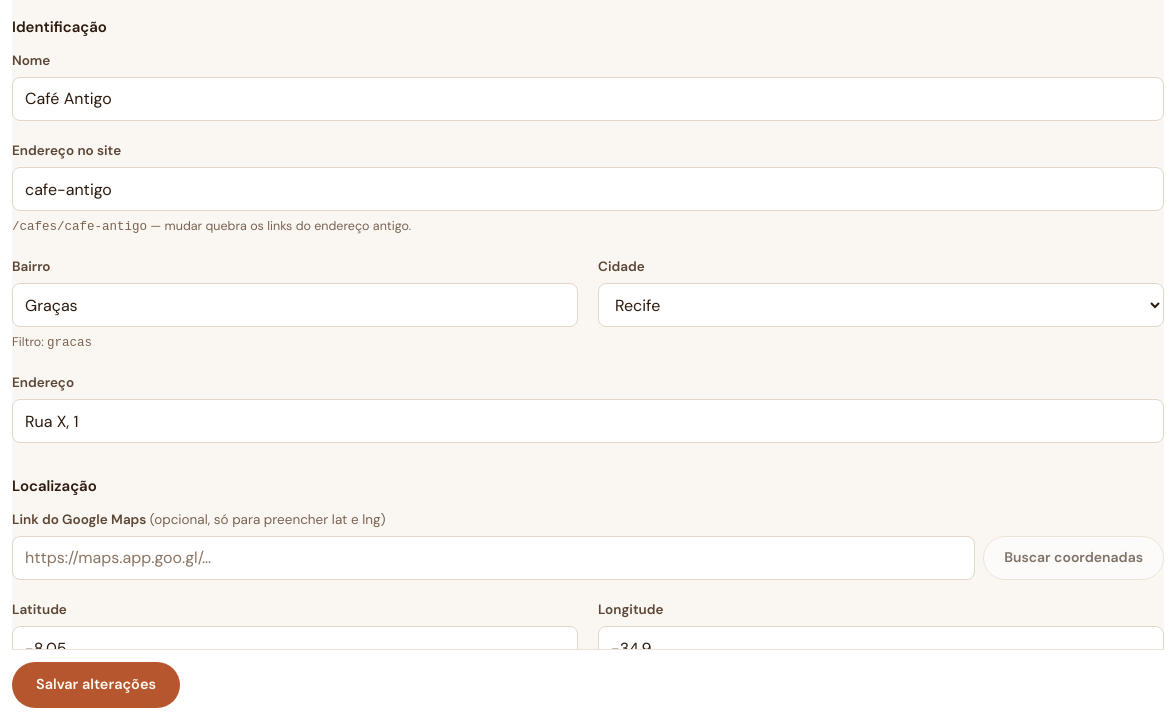
it: DadosCafeForm — endereço na edição (#155) › mudar o nome sugere o endereço novo sem trocar sozinho; “Usar” troca
Expected: the field labelled "Endereço no site" holds "cafe-antigo", 12,167 -> 1164,211
Expected: the button "Usar" is not shown
Replace the text in the field labelled "Nome" with "Café Novo" at (588,99), box 12,77 -> 1164,121
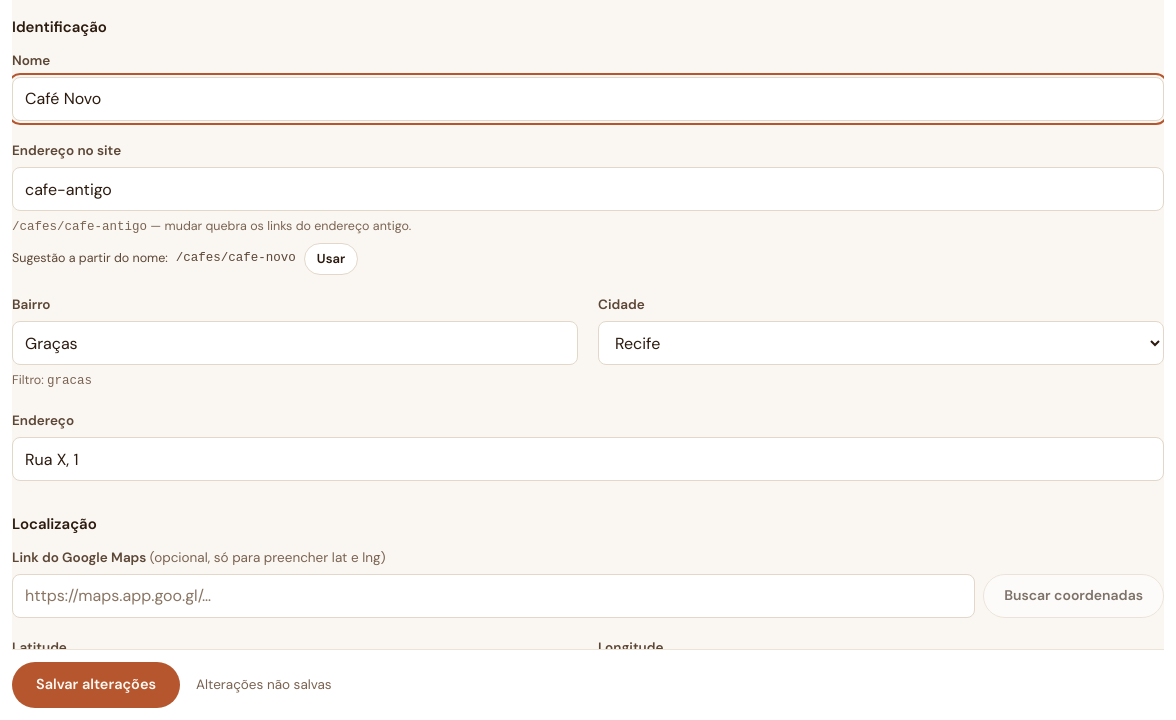
Expected: the field labelled "Endereço no site" holds "cafe-antigo", 12,167 -> 1164,211
Expected: the text "/cafes/cafe-novo" is shown, 176,249 -> 296,268
Click the button "Usar" at (331,259), box 304,243 -> 358,275
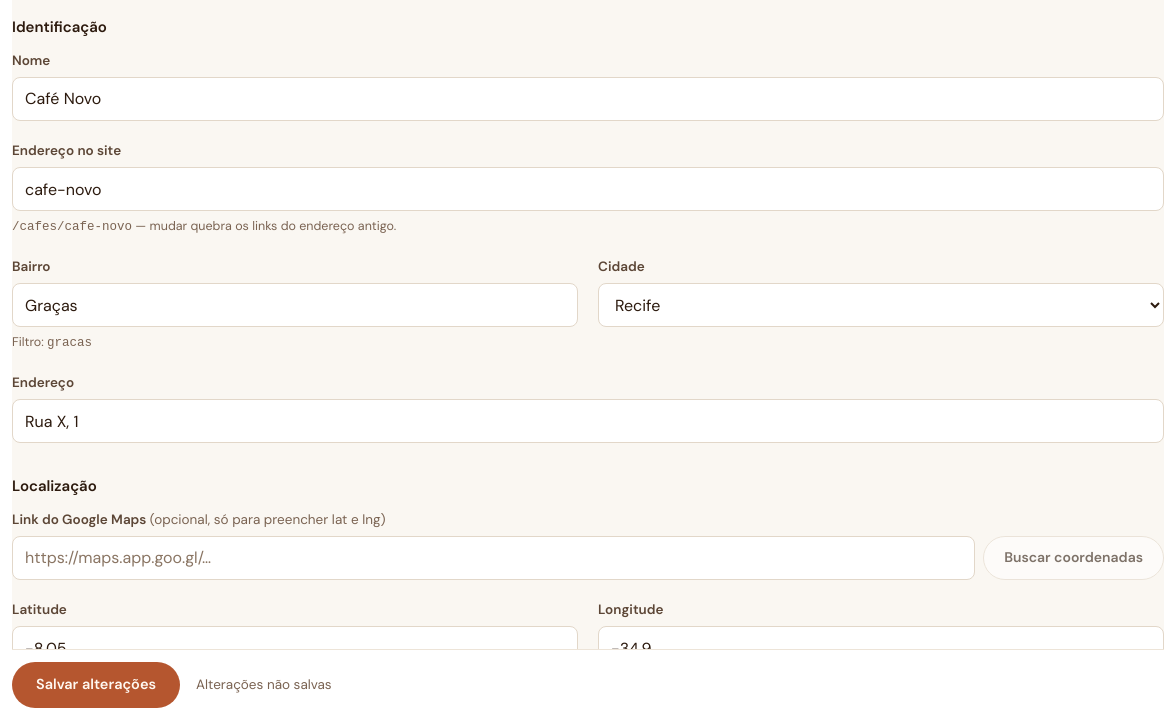
Expected: the field labelled "Endereço no site" holds "cafe-novo", 12,167 -> 1164,211
Expected: the button "Usar" is gone
